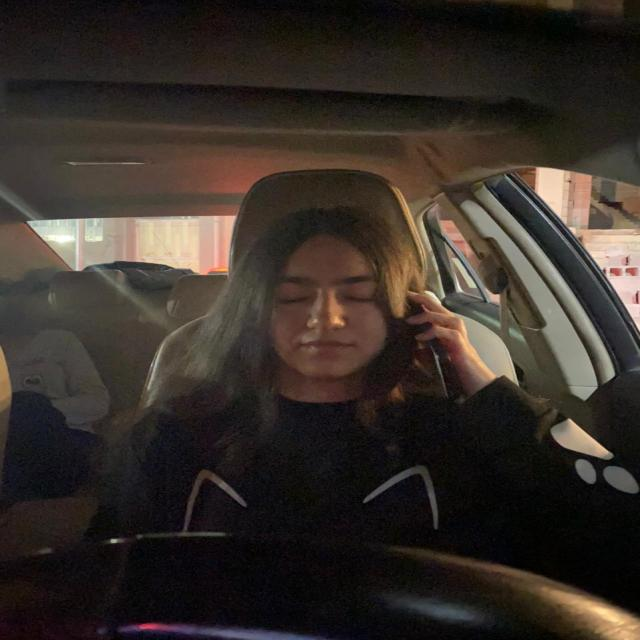mobile: (404, 304, 464, 401)
person: (270, 224, 392, 369)
